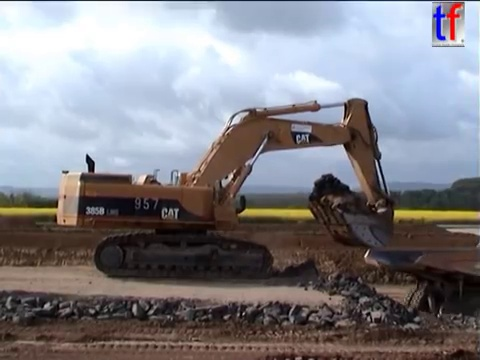excavator: (55, 96, 397, 282)
truck: (361, 238, 480, 339)
